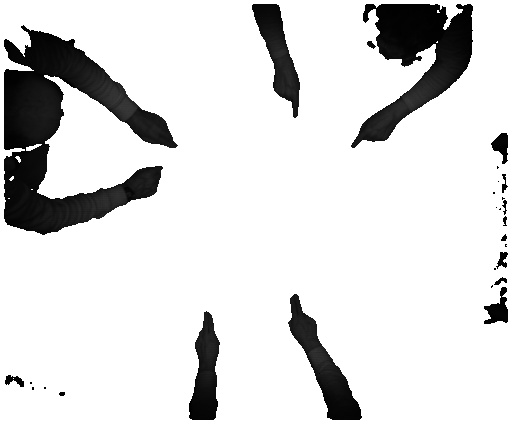hand: (344, 111, 398, 151), (134, 108, 182, 151), (192, 309, 223, 367), (288, 288, 318, 345), (127, 160, 167, 202), (273, 71, 303, 119)
